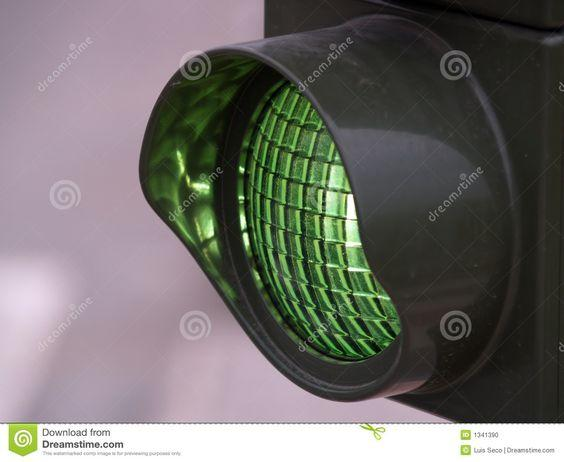Traffic light green: (121, 0, 539, 422)
